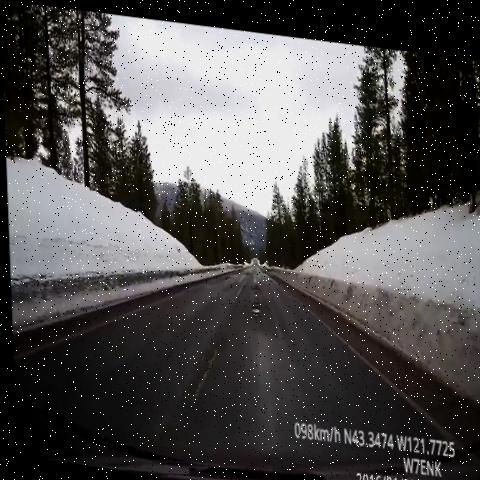pothole: (244, 288, 266, 320), (241, 268, 263, 294)
